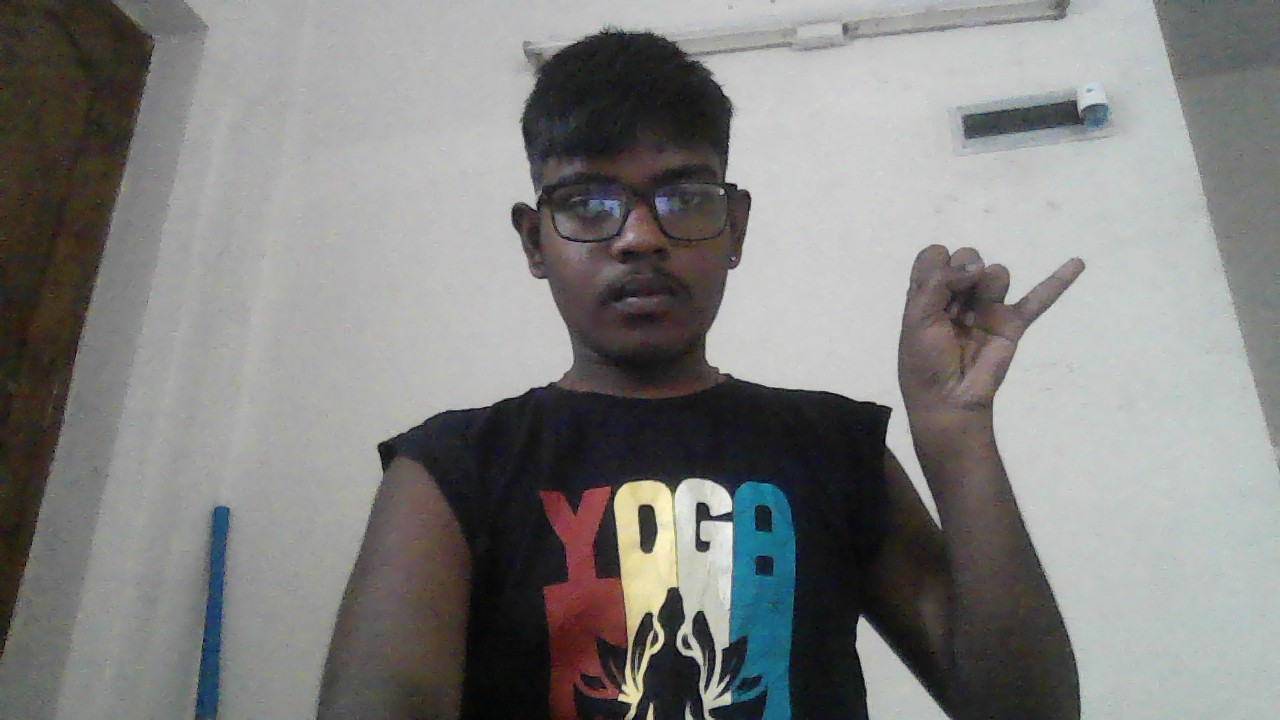J: (897, 243, 1086, 424)
